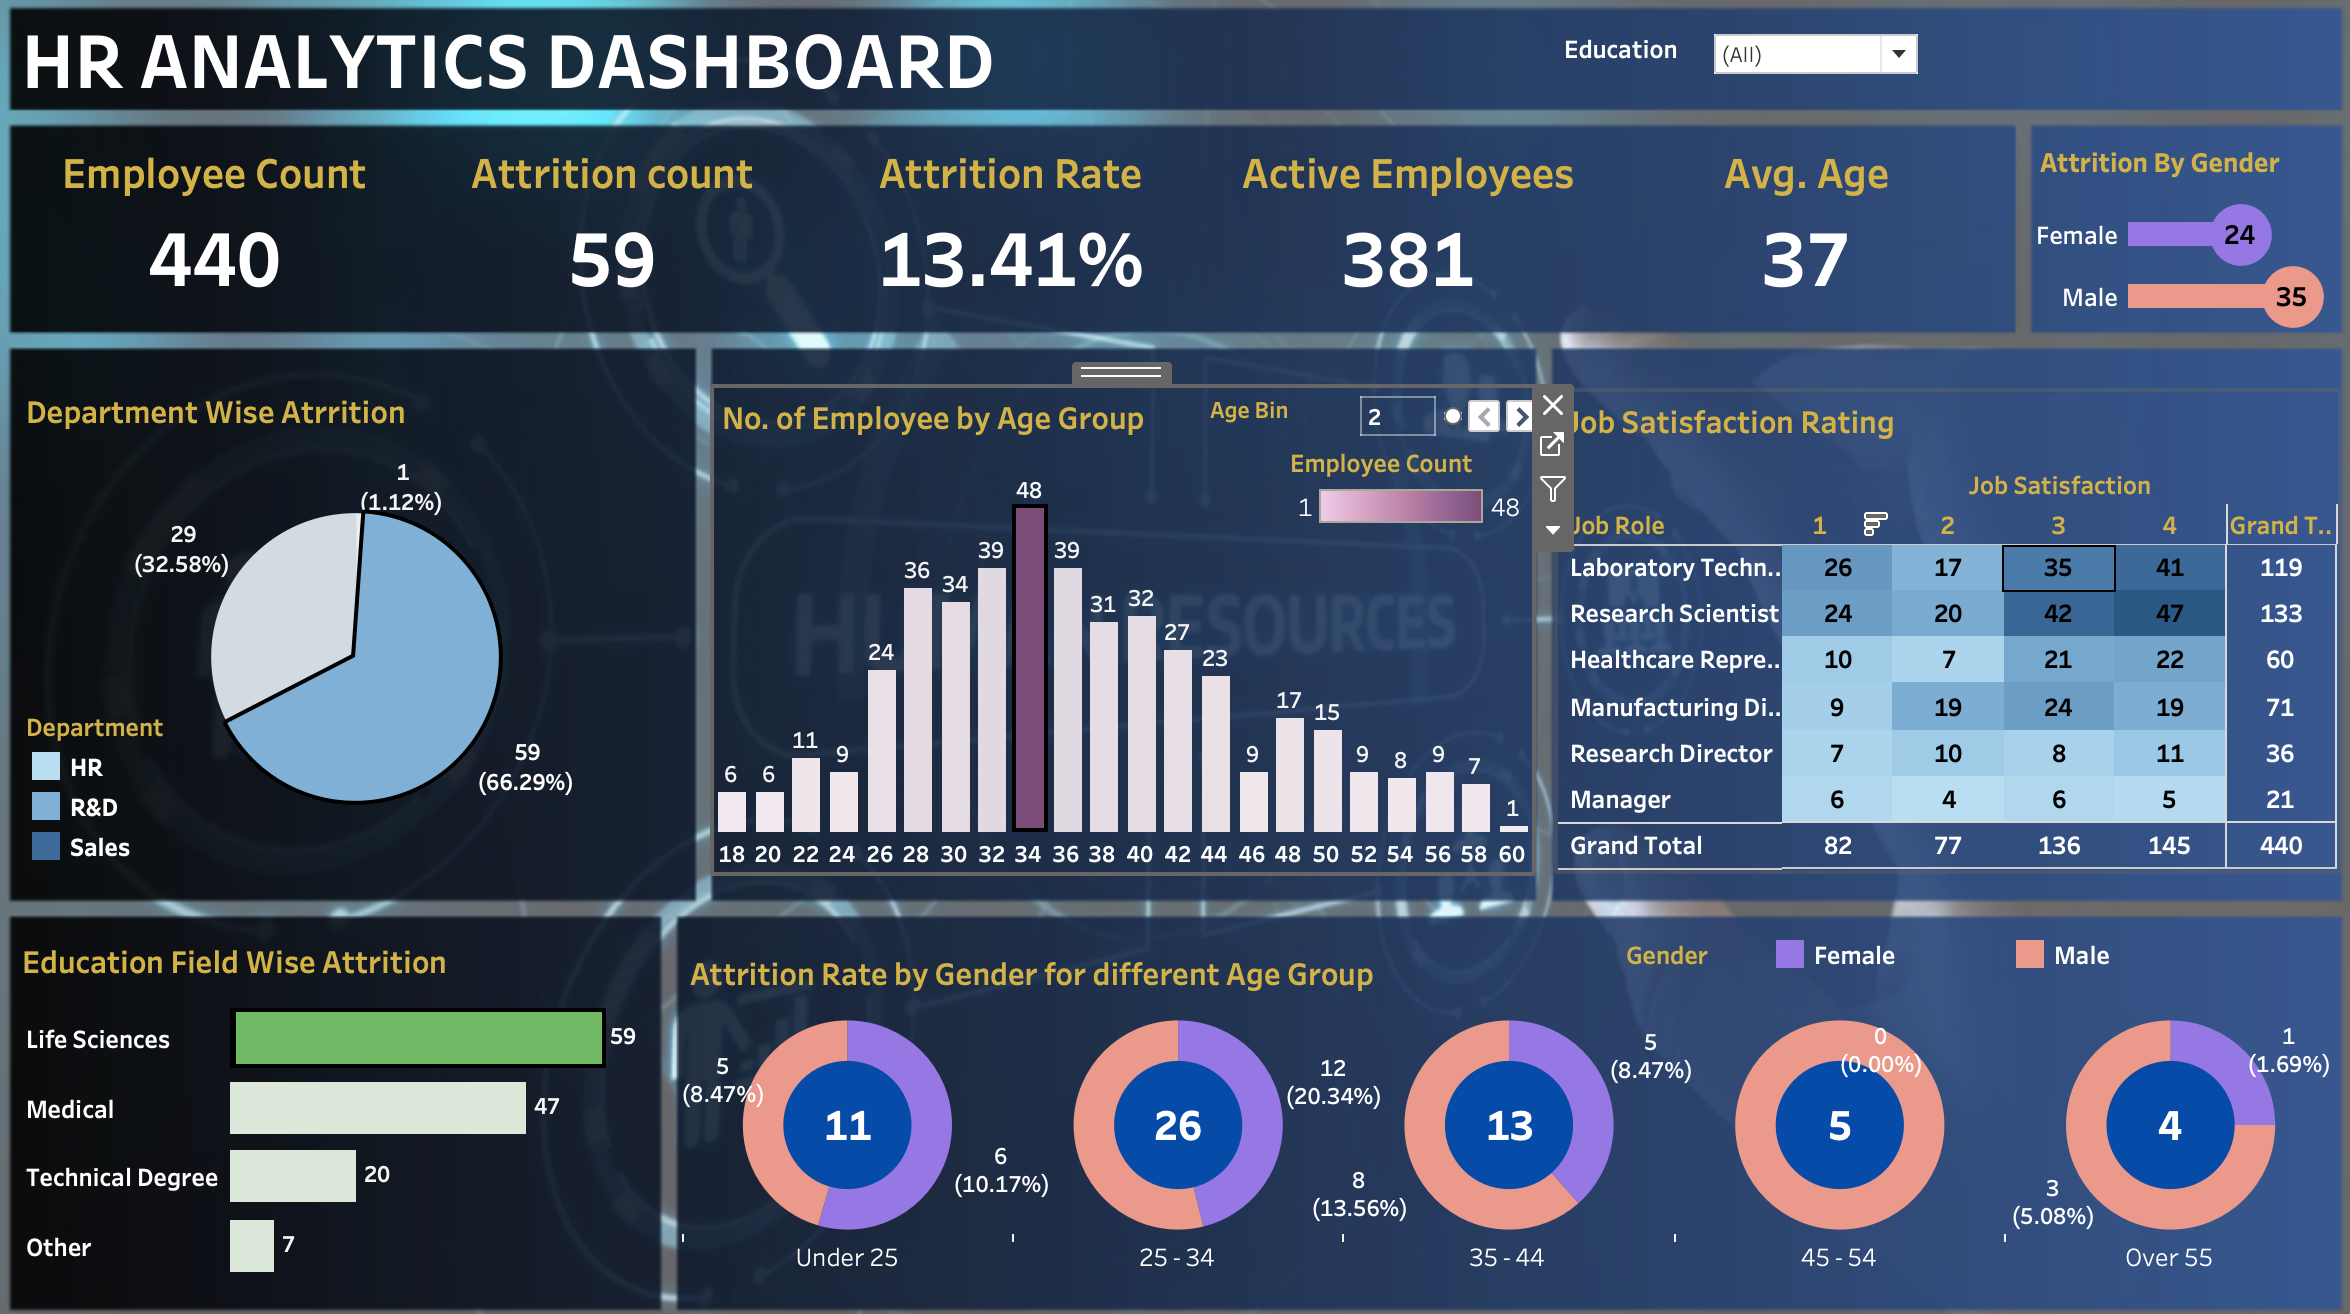

The page's visual inventory and layout, read from the dashboard file:
{"tool":"tableau","page":{"name":"HR Aanalytics ","canvas":[1070,900],"ordinal":0},"visuals":[{"type":"image","param":"Image/HR background.pptx.png","box":[8,8,1054,884]},{"type":"text","box":[21,115,685,130]},{"type":"filter","title":"Department Wise Atrrition","param":"[federated.06gr2we17l0roy18276p00ptd67j].[none:Education:nk]","box":[703,164,160,35]},{"type":"worksheet","title":"Attrition By Gender","mark":"Automatic","rows":["Gender"],"cols":["Calculation_409968335683682304","Calculation_409968335683682304"],"box":[917,208,135,96]},{"type":"worksheet","title":"KPI","mark":"Automatic","box":[20,216,887,84]},{"type":"worksheet","title":"No. of Employee by Age Group","mark":"Automatic","rows":["Employee Count"],"cols":["Age (bin)"],"box":[329,314,365,242]},{"type":"parameter","param":"[Parameters].[Parameter 2]","box":[550,315,149,27]},{"type":"worksheet","title":"Department Wise Atrrition","mark":"Pie","box":[19,316,300,239]},{"type":"worksheet","title":"Job Satisfaction Rating","mark":"Square","rows":["Job Role"],"cols":["Job Satisfaction"],"box":[705,316,348,239]},{"type":"legend","title":"No. of Employee by Age Group","param":"[federated.06gr2we17l0roy18276p00ptd67j].[sum:Employee Count:qk]","box":[586,343,107,54]},{"type":"legend","title":"Department Wise Atrrition","param":"[federated.06gr2we17l0roy18276p00ptd67j].[none:Department:nk]","box":[22,475,140,78]},{"type":"worksheet","title":"Education Field Wise Attrition","mark":"Automatic","rows":["Education Field"],"cols":["Calculation_409968335683682304"],"box":[17,566,290,174]},{"type":"legend","title":"Attrition Rate by Gender for different Age Group ","param":"[federated.06gr2we17l0roy18276p00ptd67j].[none:Gender:nk]","box":[748,568,305,33]},{"type":"worksheet","title":"Attrition Rate by Gender for different Age Group ","mark":"Pie","rows":["Calculation_409968335711240196","Calculation_409968335711240196"],"cols":["CF_age band"],"box":[315,569,737,166]}]}

Visuals, with their boxes on the page's 1070x900 design canvas (x1, y1, x2, y2). These are canvas units, not pixel positions in the 2350x1314 screenshot, which may show the page scaled, cropped or inside an application window:
image: 8:8:1062:892
text: 21:115:706:245
"Department Wise Atrrition" filter: 703:164:863:199
"Attrition By Gender" worksheet: 917:208:1052:304
"KPI" worksheet: 20:216:907:300
"No. of Employee by Age Group" worksheet: 329:314:694:556
parameter: 550:315:699:342
"Department Wise Atrrition" worksheet (Pie marks): 19:316:319:555
"Job Satisfaction Rating" worksheet (Square marks): 705:316:1053:555
"No. of Employee by Age Group" legend: 586:343:693:397
"Department Wise Atrrition" legend: 22:475:162:553
"Education Field Wise Attrition" worksheet: 17:566:307:740
"Attrition Rate by Gender for different Age Group " legend: 748:568:1053:601
"Attrition Rate by Gender for different Age Group " worksheet (Pie marks): 315:569:1052:735
